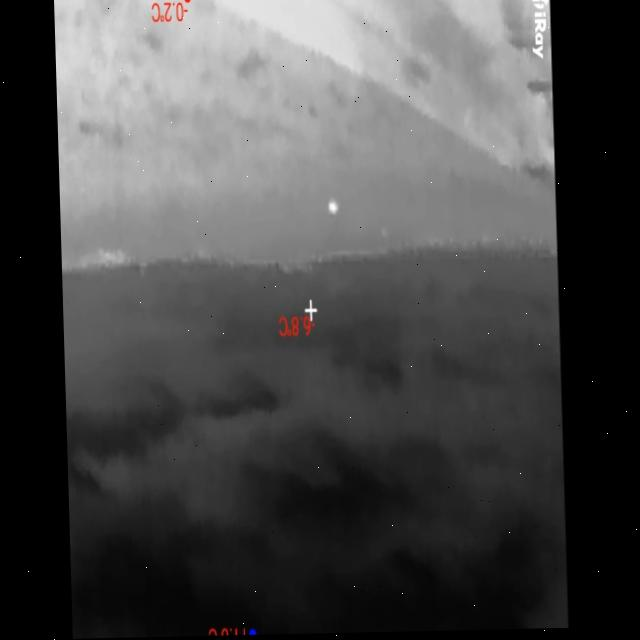drone: (324, 198, 337, 220)
